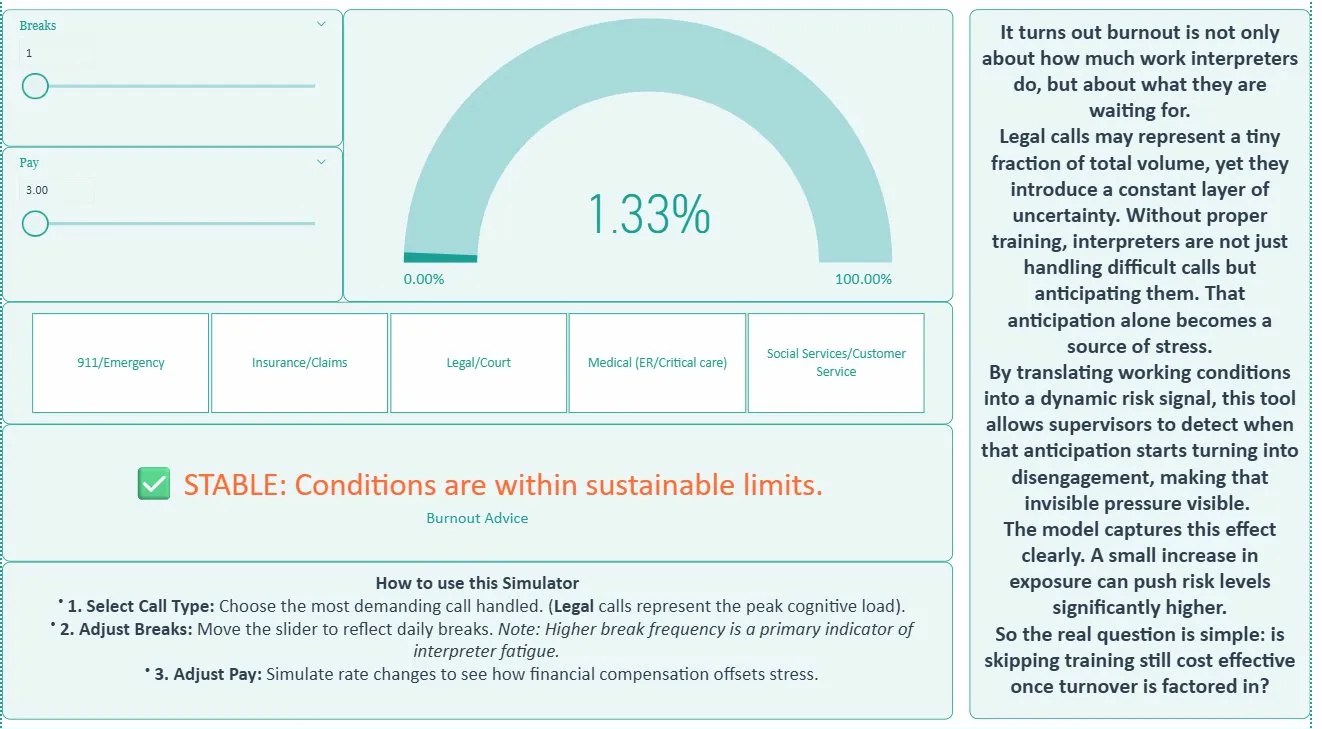

Layout of this report page (visuals, bound fields, positions):
{"tool":"powerbi","page":{"name":"Page 4","canvas":[1280,720],"ordinal":3},"visuals":[{"type":"textbox","box":[946.5,15.9,333.8,694.6],"z":0},{"type":"slicer","fields":{"Values":["Breaks.Breaks"]},"box":[0,15.9,333.8,134.5],"z":1},{"type":"slicer","fields":{"Values":["Pay.Pay"]},"box":[0,150.4,333.8,151.6],"z":2},{"type":"gauge","fields":{"Y":["BPO Size.Burnout Risk Dynamic"]},"box":[333.8,15.9,596.7,286.1],"z":3},{"type":"slicer","fields":{"Values":["Sheet1 (2).call_difficult"]},"box":[0,302,930.6,119.8],"z":4},{"type":"card","fields":{"Values":["BPO Size.Burnout Advice"]},"box":[0,421.9,930.6,134.5],"z":5},{"type":"textbox","box":[0,556.4,930.6,154.1],"z":6}]}

Visuals, with their boxes in screenshot pixels (x1, y1, x2, y2), scaled from the page's 1280x720 canvas onto the 1322x729 screenshot:
textbox: rect(978, 16, 1321, 719)
slicer - Breaks.Breaks: rect(0, 16, 345, 152)
slicer - Pay.Pay: rect(0, 152, 345, 306)
gauge - BPO Size.Burnout Risk Dynamic: rect(345, 16, 961, 306)
slicer - Sheet1 (2).call_difficult: rect(0, 306, 961, 427)
card - BPO Size.Burnout Advice: rect(0, 427, 961, 563)
textbox: rect(0, 563, 961, 719)
